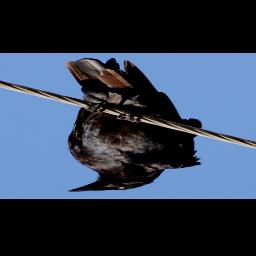Crow: (62, 58, 203, 194)
